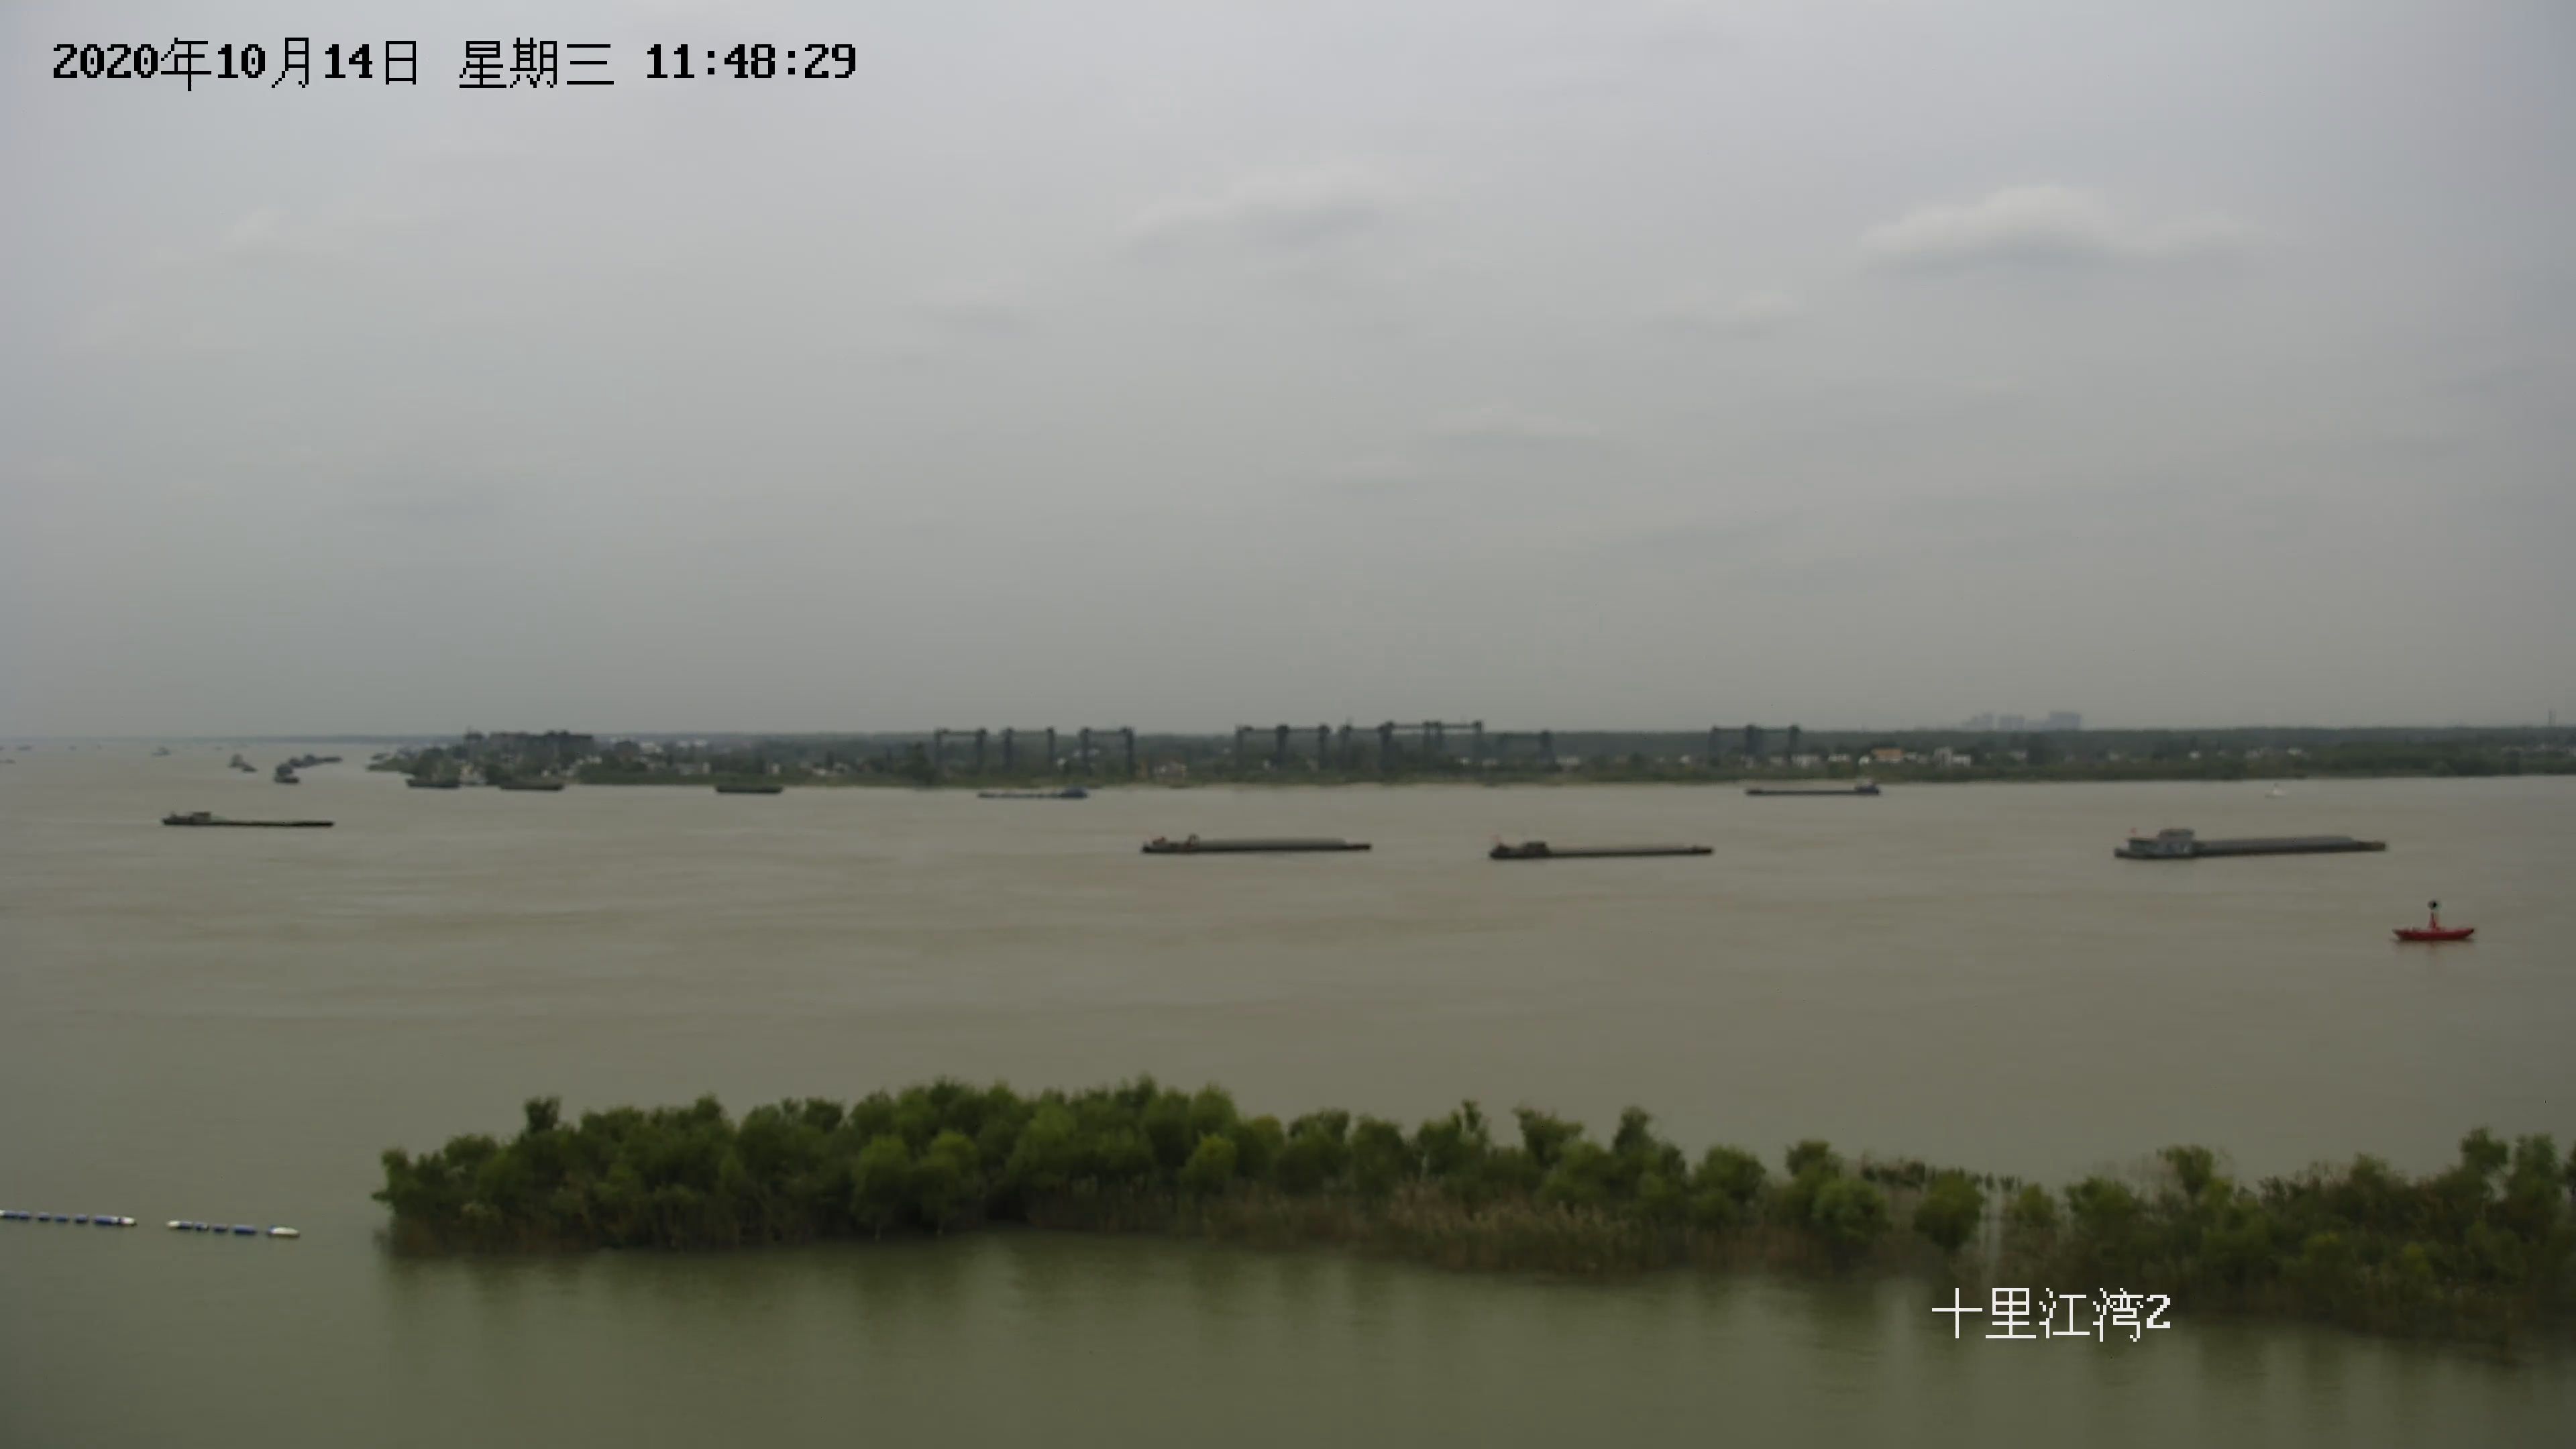boat: (2107, 824, 2394, 858), (1481, 835, 1720, 867), (1138, 828, 1375, 855), (156, 805, 345, 833), (1741, 777, 1888, 805), (973, 780, 1097, 809), (711, 771, 794, 801), (495, 777, 573, 791), (405, 775, 464, 791)
